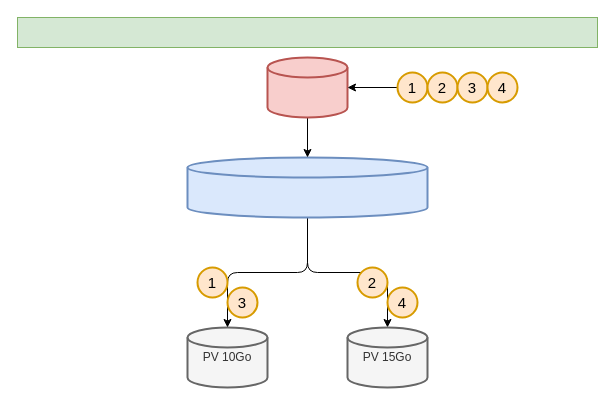
The diagram is 615 pixels wide and 406 high, and some of its shapes have lost their labels. Here are the shapes that lost their labels. From the top down, the box of each, then its label:
(16, 16, 598, 48): Strip mode volumes
(266, 56, 348, 118): LV
(186, 156, 428, 218): VG
